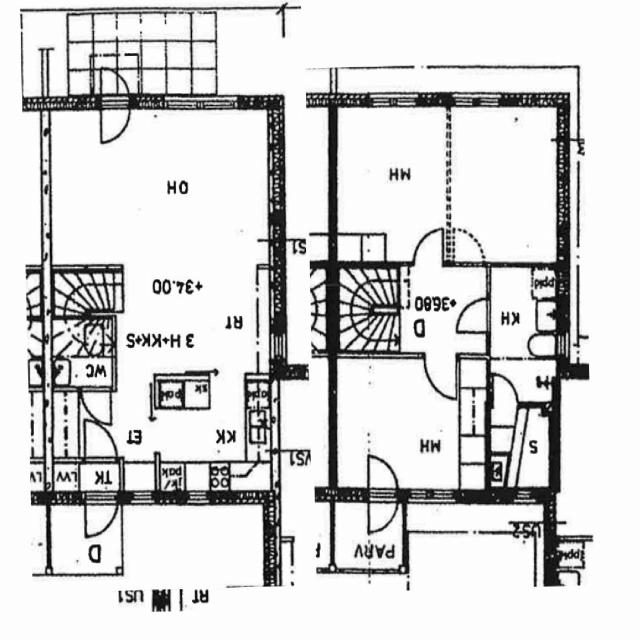door: (86, 490, 117, 540), (101, 95, 130, 142), (101, 64, 130, 110), (370, 487, 398, 533), (370, 456, 398, 501), (85, 422, 115, 462), (426, 352, 456, 391), (457, 299, 490, 332), (82, 386, 110, 424), (414, 229, 442, 266), (492, 375, 516, 407)
